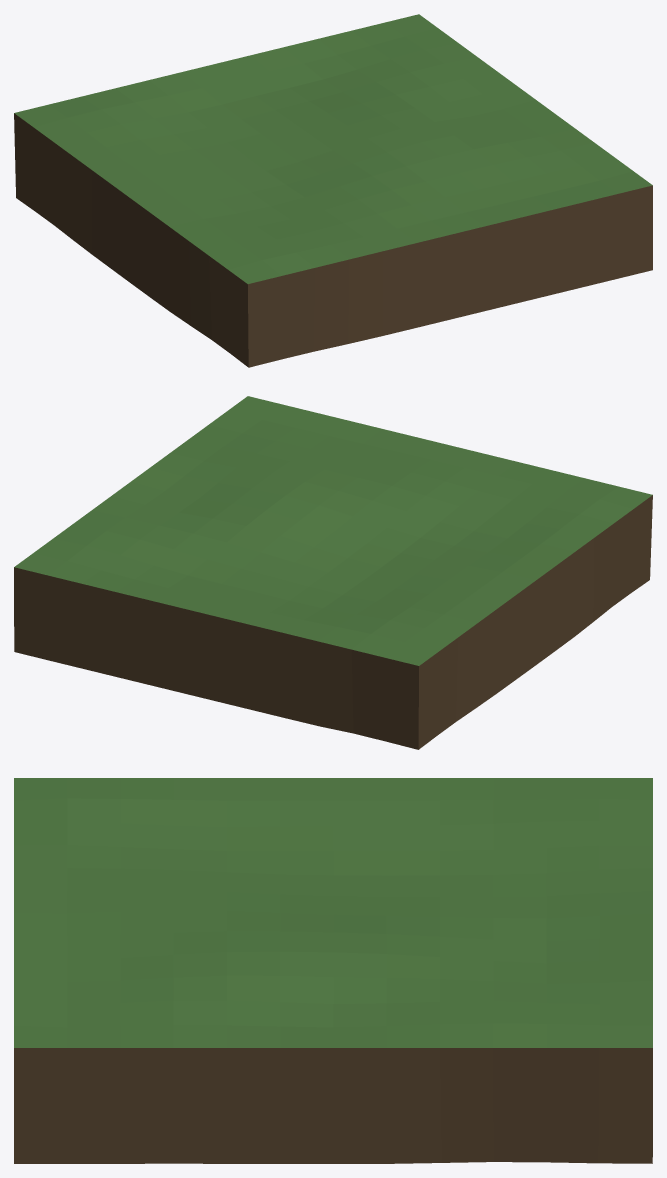
File: grass_02.glb
The picture shows the model from 3 angles, top to bottom: view 1: azimuth 30°, elevation 25°; view 2: azimuth 150°, elevation 25°; view 3: azimuth 270°, elevation 25°; orthographic projection. The views are drawn at different scales.
Parts seen in each view (by area): view 1: Grid; view 2: Grid; view 3: Grid.
Part boxes in pixels (x1=…): Grid: x1=14, y1=14, x2=652, y2=367; Grid: x1=14, y1=396, x2=652, y2=749; Grid: x1=14, y1=778, x2=652, y2=1163.
Size of the model in its own units: 1 by 0.2112 by 1.
